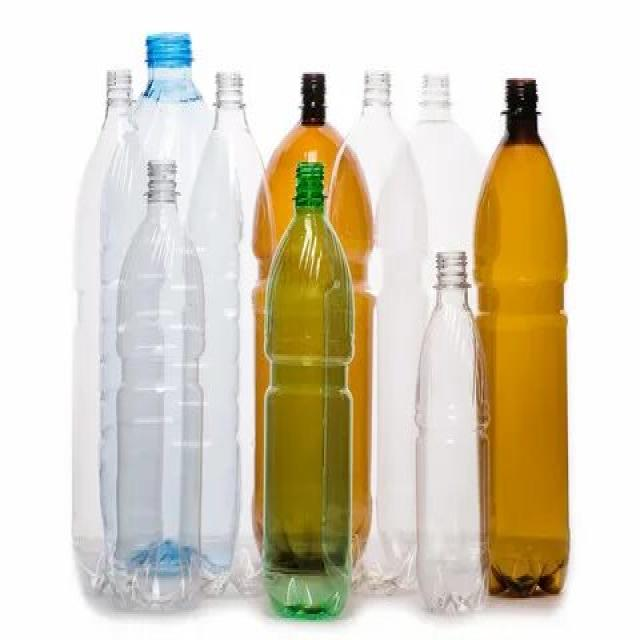blue: (134, 34, 204, 134)
brown: (477, 80, 569, 598), (264, 74, 349, 164)
green: (264, 165, 354, 615)
